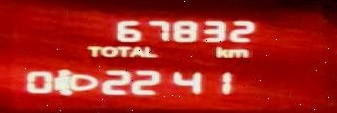0: (22, 68, 52, 94)
1: (210, 65, 238, 100)
2: (98, 67, 130, 98), (129, 67, 161, 98), (230, 17, 255, 43)
3: (200, 17, 224, 44)
4: (169, 69, 203, 94)
6: (113, 17, 142, 44)
7: (145, 17, 172, 40)
8: (172, 16, 196, 43)
X: (227, 47, 247, 59), (85, 43, 100, 58), (143, 45, 159, 58), (100, 45, 116, 58), (214, 45, 227, 59), (129, 46, 143, 59), (116, 45, 129, 58)
